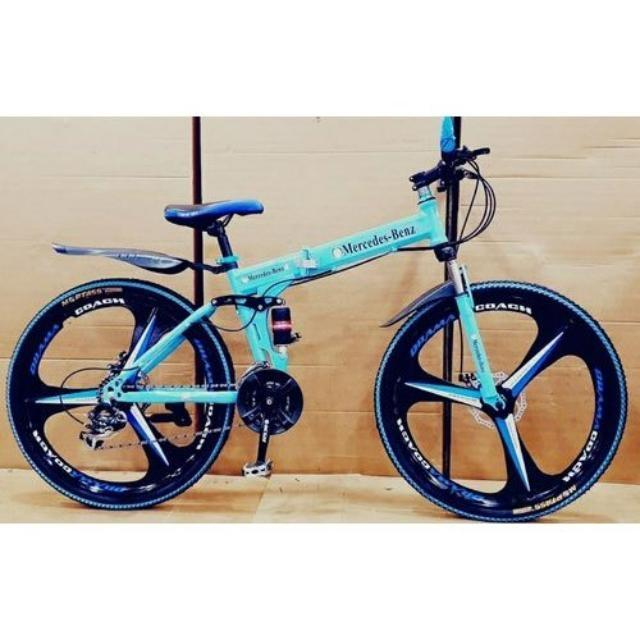obstacle: (5, 121, 637, 519)
